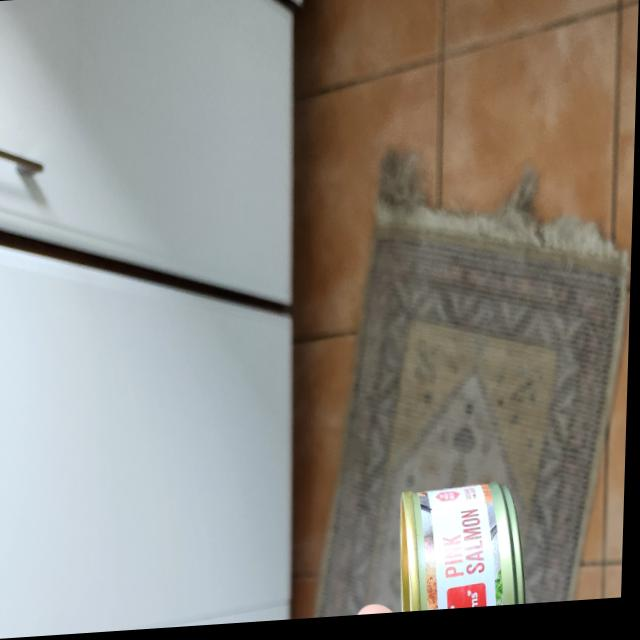salmon: (396, 485, 533, 618)
